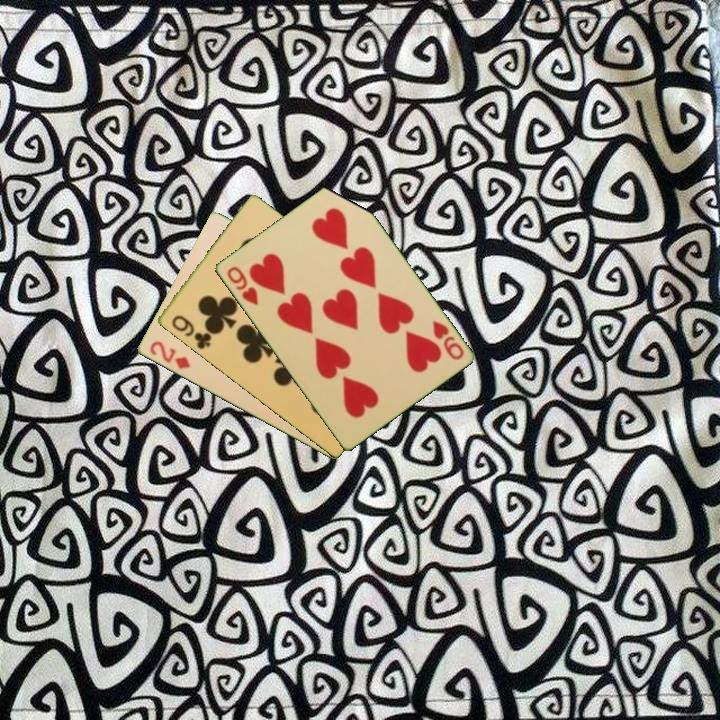2d: (146, 337, 193, 372)
9c: (168, 311, 214, 352)
9h: (223, 263, 261, 309), (428, 317, 466, 363)
